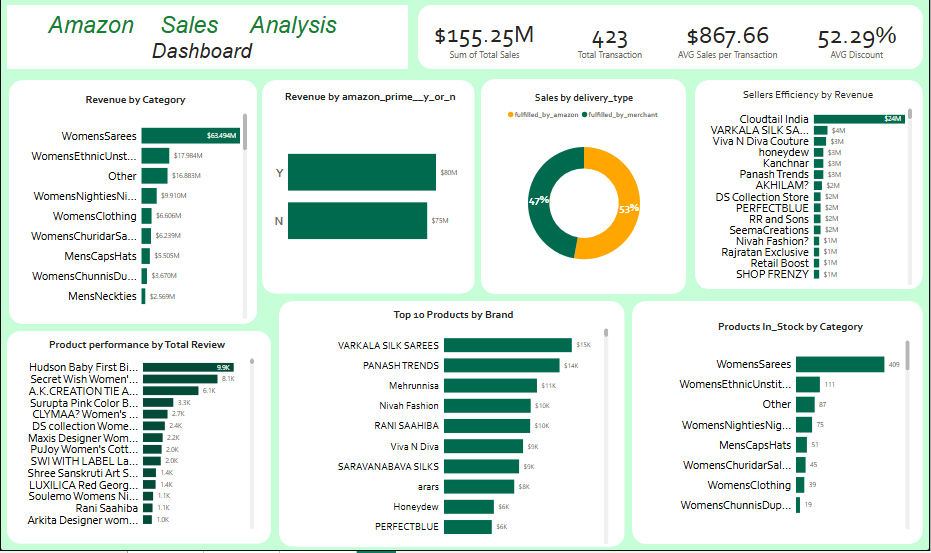

This screenshot's page, from the dashboard's own definition file:
{"tool":"powerbi","page":{"name":"Page 1","canvas":[1700,1020],"ordinal":0},"visuals":[{"type":"shape","box":[16.5,159,453.9,445.9],"z":0,"group":"g2"},{"type":"shape","box":[1155.3,563,531.9,444.2],"z":0,"group":"g6"},{"type":"shape","box":[12.8,617.8,482.6,389.4],"z":0},{"type":"shape","box":[764.1,21.9,923.1,117],"z":1000},{"type":"shape","box":[879.2,157.2,374.7,393],"z":1000,"group":"g4"},{"type":"clusteredBarChart","title":"Revenue by Category","fields":{"Category":["Amazon-fashion - Product Table (2).Category"],"Y":["Sum(Amazon-fashion - SalesTable (2).Total Sales)"]},"box":[37.8,182.1,418.5,418.2],"z":1000,"group":"g2"},{"type":"card","fields":{"Values":["Amazon-fashion - SalesTable (2).Total Transaction"]},"box":[1022.4,36.6,186.5,91.4],"z":2000},{"type":"group","id":"g1","title":"Group 4","box":[1270.4,159,416.8,382.1],"z":2000,"group":"g11"},{"type":"shape","box":[510,563,632.5,449.7],"z":2000,"group":"g10"},{"type":"shape","box":[38.1,293.1,375.5,144.6],"z":3000},{"type":"group","id":"g2","title":"Group 1","box":[16.5,159,462.5,446],"z":4000},{"type":"shape","box":[1270.4,159,416.8,382.2],"z":4000,"group":"g8"},{"type":"card","fields":{"Values":["Amazon-fashion - Product Table (2).AVG Discount"]},"box":[1458.7,36.6,213.9,91.4],"z":5000},{"type":"shape","box":[478.9,159,389.4,391.2],"z":5000,"group":"g3"},{"type":"group","id":"g3","title":"Group 5","box":[478.9,159,389.4,391.2],"z":6000},{"type":"clusteredBarChart","title":" Revenue by amazon_prime__y_or_n","fields":{"Category":["Amazon-fashion - SalesTable (2).amazon_prime__y_or_n"],"Y":["Sum(Amazon-fashion - SalesTable (2).Total Sales)"]},"box":[495,177.6,362.7,361.4],"z":6000,"group":"g3"},{"type":"barChart","title":" Products In_Stock by Category","fields":{"Category":["Amazon-fashion - Product Table (2).Category"],"Y":["Amazon-fashion - Product Table (2).Total Stock Left"]},"box":[1221.9,597.1,447.4,388.4],"z":6000,"group":"g6"},{"type":"group","id":"g4","title":"Group 6","box":[879.2,157.2,374.7,393],"z":7000},{"type":"group","id":"g5","title":"Group 11","box":[1155.3,563,531.9,444.2],"z":7001,"group":"g9"},{"type":"group","id":"g6","title":"Group 12","box":[1155.3,563,531.9,444.2],"z":7001,"group":"g5"},{"type":"group","id":"g7","title":"Group 7","box":[510,563,632.5,449.7],"z":8000},{"type":"group","id":"g8","title":"Group 8","box":[1270.4,159,416.8,382.2],"z":8002,"group":"g1"},{"type":"clusteredBarChart","title":"Sellers Efficiency by Revenue","fields":{"Y":["Sum(Amazon-fashion - SalesTable (2).Total Sales)"],"Category":["Amazon-fashion - Sellers Table (2).seller_name"]},"box":[1282.1,173.4,391.2,365.7],"z":9000,"group":"g11"},{"type":"donutChart","title":"Sales by delivery_type","fields":{"Category":["Amazon-fashion - Product Table (2).delivery_type"],"Y":["Amazon-fashion - SalesTable (2).Sum of Sales"]},"box":[886.6,179.1,361.9,358.3],"z":9000},{"type":"card","fields":{"Values":["Sum(Amazon-fashion - SalesTable (2).Total Sales)"]},"box":[775.1,36.6,221.2,89.6],"z":10000},{"type":"clusteredBarChart","title":"Top 10  Products by Brand","fields":{"Y":["Amazon-fashion - SalesTable (2).Sum of Sales"],"Category":["Amazon-fashion - Product Table (2).brand"]},"box":[541.6,575.2,575.6,437.5],"z":10000,"group":"g10"},{"type":"group","id":"g9","title":"Group 3","box":[1155.3,563,531.9,444.2],"z":11000},{"type":"textbox","box":[12.8,21.9,733,117],"z":12000},{"type":"group","id":"g10","title":"Group 10","box":[510,563,632.5,449.7],"z":12003,"group":"g7"},{"type":"clusteredBarChart","title":"Product performance by Total Review","fields":{"Category":["Amazon-fashion - Product Table (2).product_name"],"Y":["Sum(Amazon-fashion - SalesTable (2).no_of_reviews)"]},"box":[31.1,630.6,438.7,354.6],"z":13000},{"type":"group","id":"g11","title":"Group 13","box":[1270.4,159,416.8,382],"z":14000},{"type":"card","fields":{"Values":["Amazon-fashion - Product Table (2).AVG Sales per Transaction"]},"box":[1226.6,36.6,206.6,91.4],"z":15000}]}

Visuals, with their boxes in screenshot pixels (x1, y1, x2, y2), scaled from the page's 1700x1020 canvas onto the 931x553 screenshot:
shape: 9/86/258/328
shape: 633/305/924/546
shape: 7/335/271/546
shape: 418/12/924/75
shape: 481/85/687/298
"Revenue by Category" clusteredBarChart: 21/99/250/325
card - Amazon-fashion - SalesTable (2).Total Transaction: 560/20/662/69
"Group 4" group: 696/86/924/293
shape: 279/305/626/549
shape: 21/159/227/237
"Group 1" group: 9/86/262/328
shape: 696/86/924/293
card - Amazon-fashion - Product Table (2).AVG Discount: 799/20/916/69
shape: 262/86/476/298
"Group 5" group: 262/86/476/298
" Revenue by amazon_prime__y_or_n" clusteredBarChart: 271/96/470/292
" Products In_Stock by Category" barChart: 669/324/914/534
"Group 6" group: 481/85/687/298
"Group 11" group: 633/305/924/546
"Group 12" group: 633/305/924/546
"Group 7" group: 279/305/626/549
"Group 8" group: 696/86/924/293
"Sellers Efficiency by Revenue" clusteredBarChart: 702/94/916/292
"Sales by delivery_type" donutChart: 486/97/684/291
card - Sum(Amazon-fashion - SalesTable (2).Total Sales): 424/20/546/68
"Top 10  Products by Brand" clusteredBarChart: 297/312/612/549
"Group 3" group: 633/305/924/546
textbox: 7/12/408/75
"Group 10" group: 279/305/626/549
"Product performance by Total Review" clusteredBarChart: 17/342/257/534
"Group 13" group: 696/86/924/293
card - Amazon-fashion - Product Table (2).AVG Sales per Transaction: 672/20/785/69
